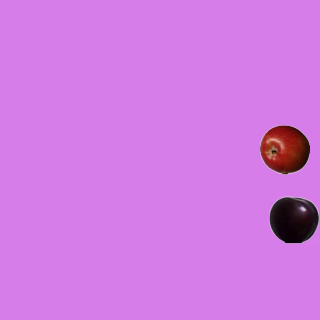Apple Braeburn: (259, 124, 309, 174)
Cherry Wax Black: (268, 194, 318, 244)
